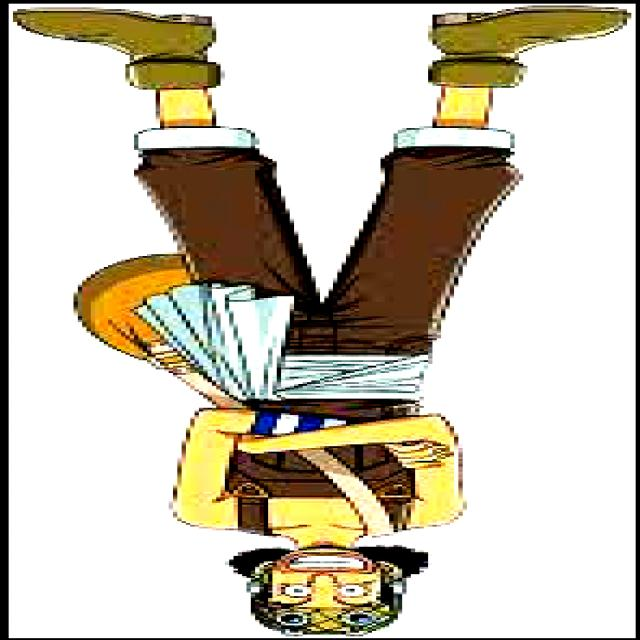Usopp: (17, 11, 631, 636)
